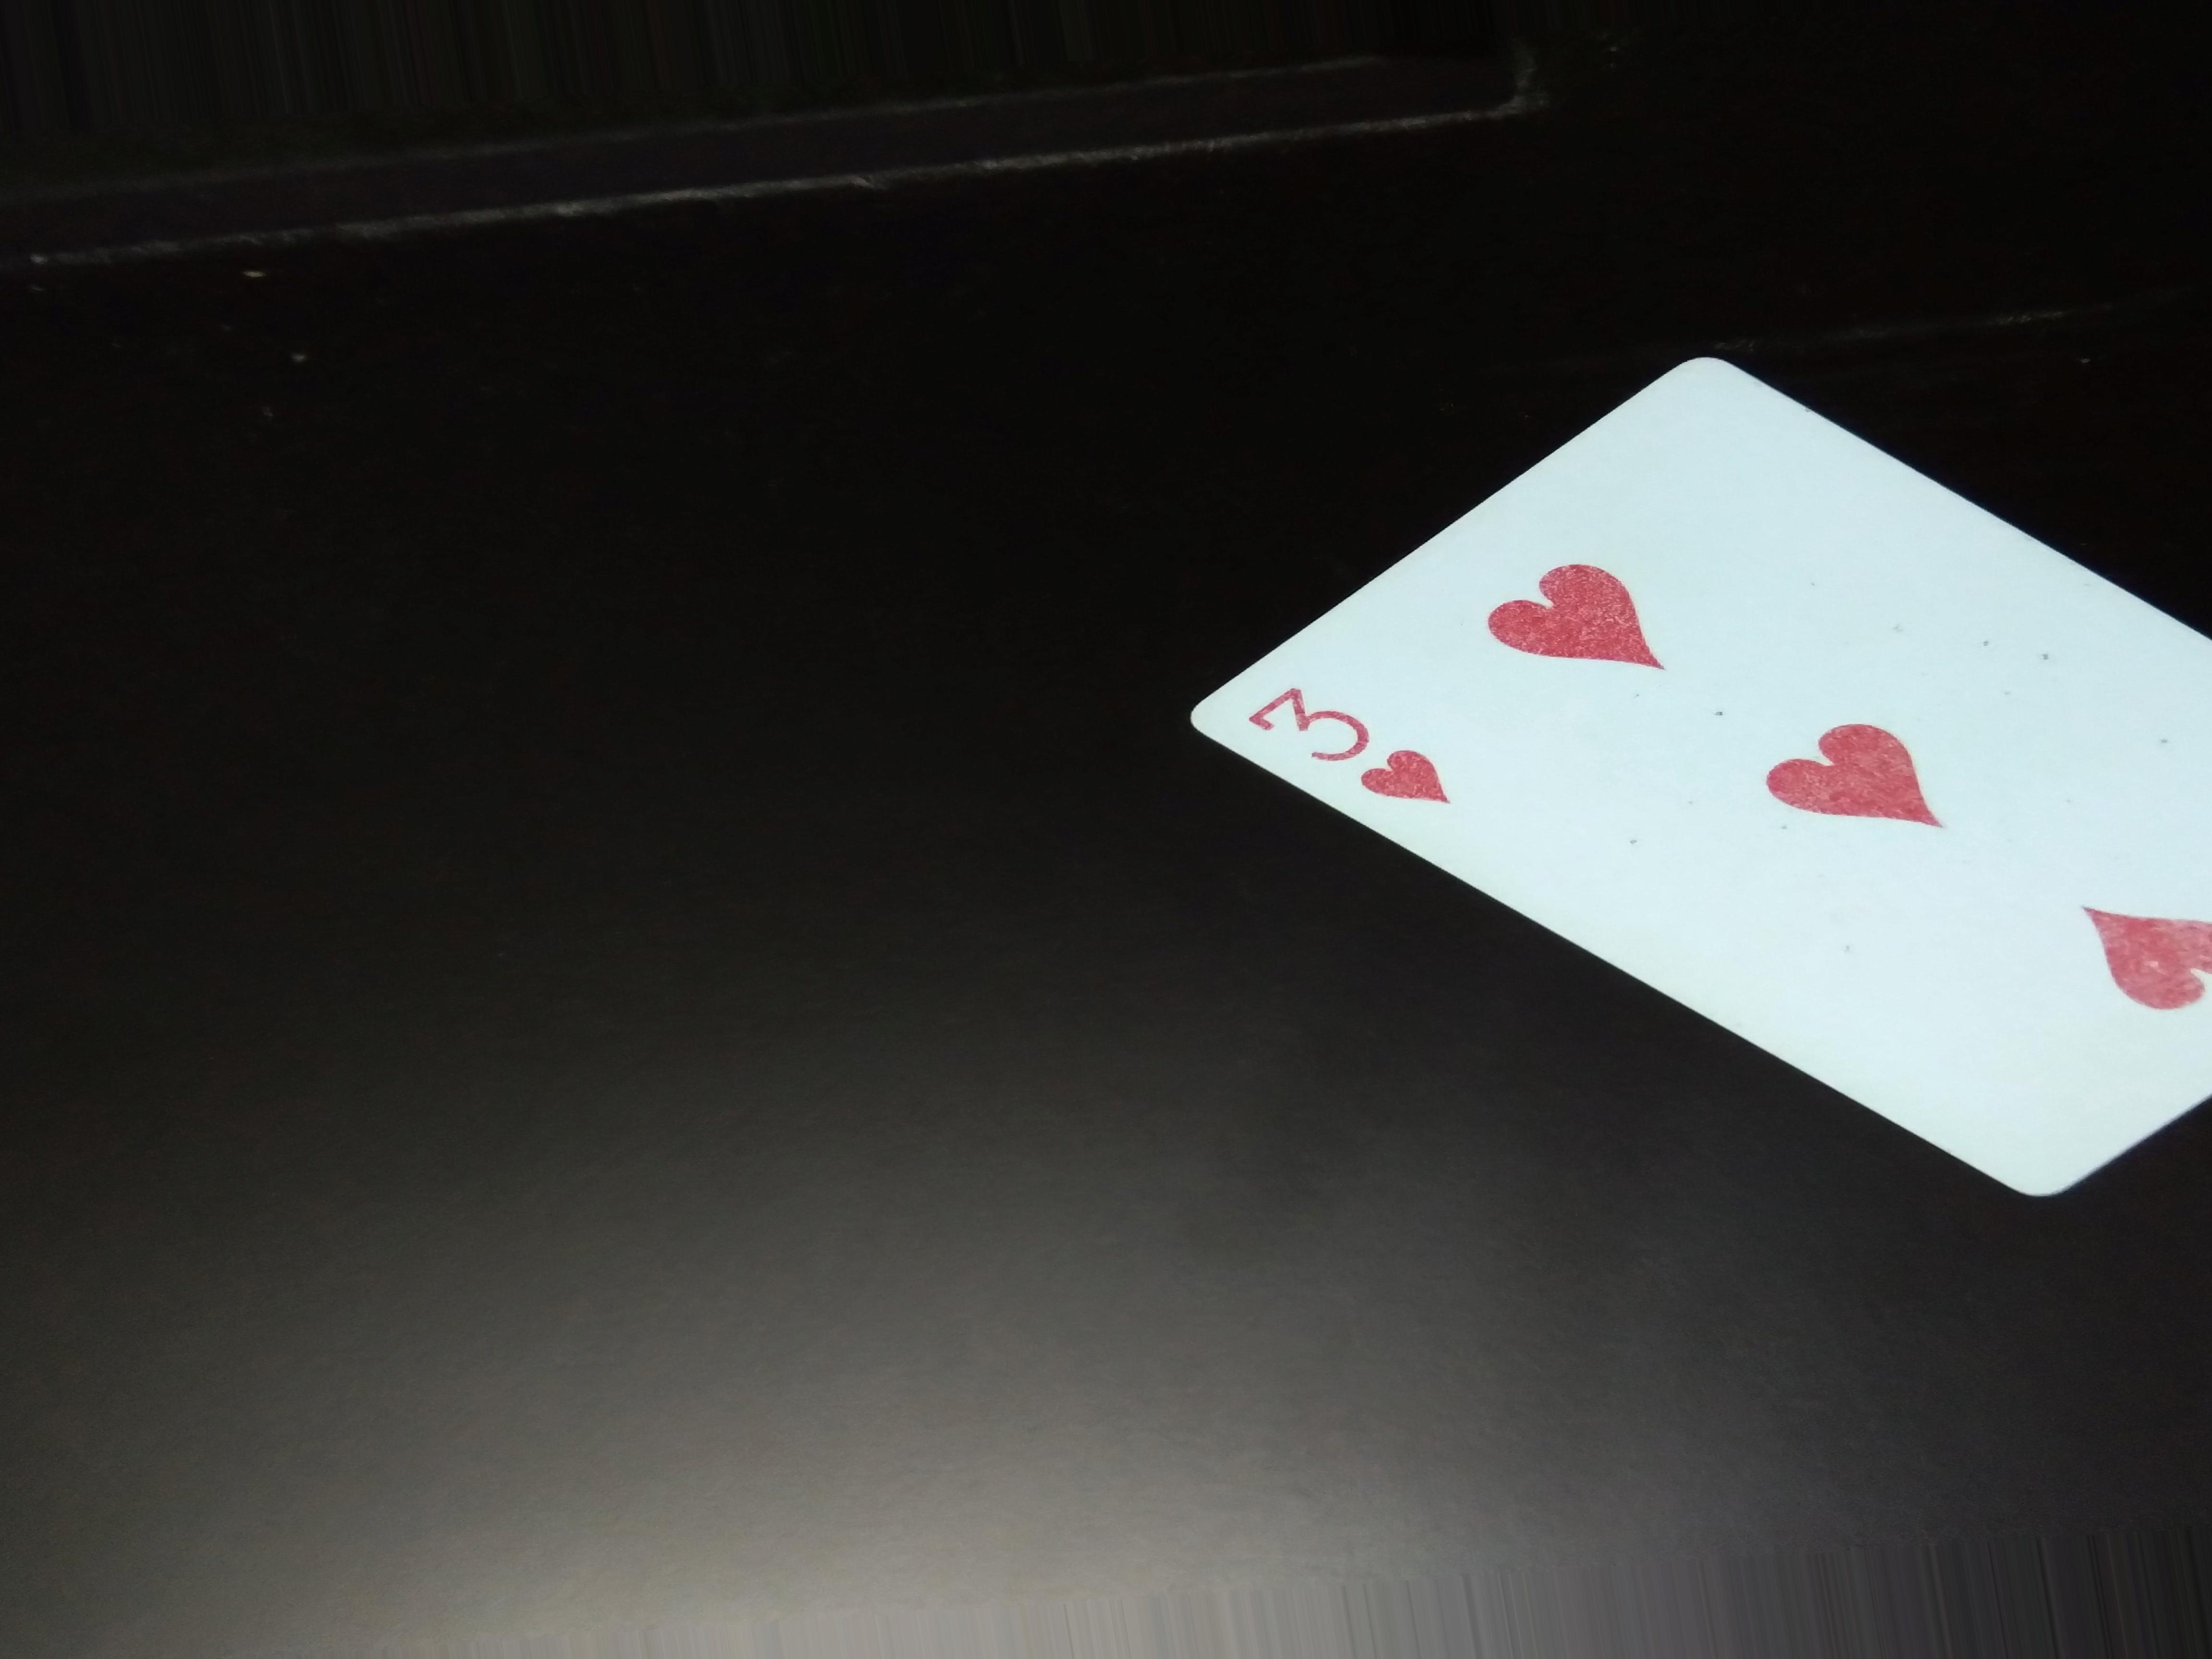3H: (1224, 678, 1479, 836)
